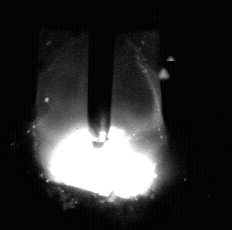arame: (88, 0, 112, 141)
poca: (35, 0, 164, 230)
